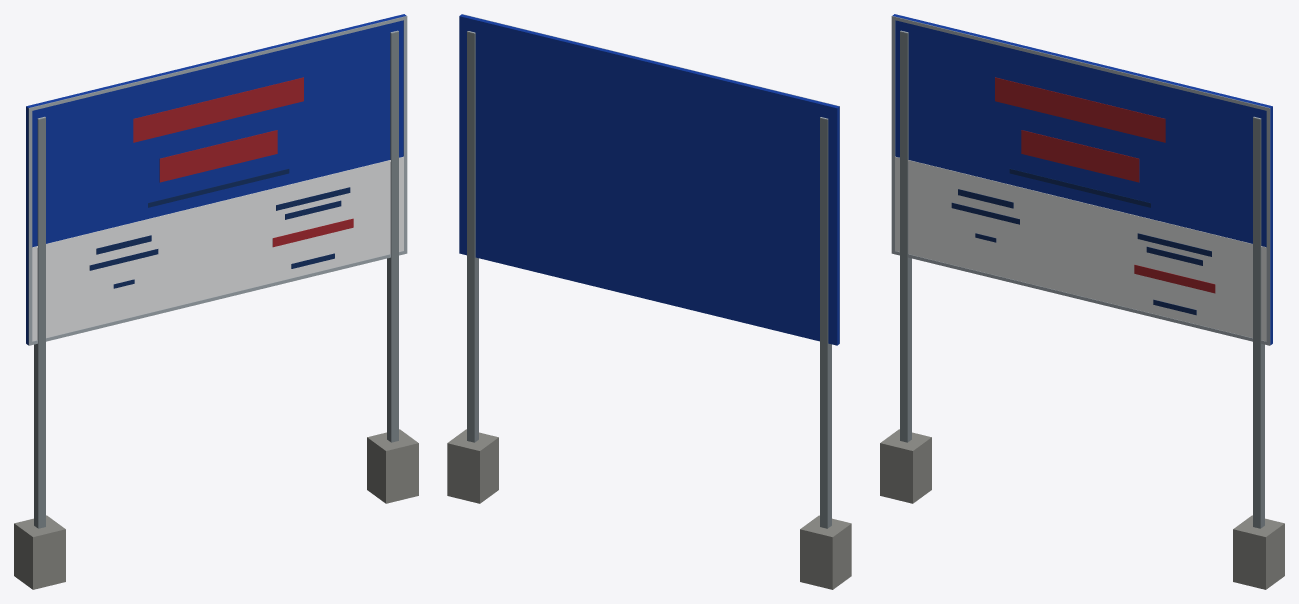
The model's file is Bảng hiệu bạt lót tôn 2 mặt có trụ 300 x 150.obj.
3 renders of one model, left to right at view 1: azimuth 30°, elevation 25°; view 2: azimuth 150°, elevation 25°; view 3: azimuth 330°, elevation 25°, orthographic.
Parts seen in each view (by area): view 1: Tam_bien_nen, Nen_thong_tin_trang, Tru_thep_1, Tru_thep_-1, Chu_ĐỘI_SẢN_XUẤT, Mong_tru_-1, Mong_tru_1, Chu_KÔ_SIÊR_II, Vien_tren, Vien_duoi, Vien_trai, Vien_phai (+3 smaller); view 2: Tam_bien_nen, Tru_thep_1, Tru_thep_-1, Mong_tru_-1, Mong_tru_1; view 3: Tam_bien_nen, Nen_thong_tin_trang, Tru_thep_-1, Tru_thep_1, Chu_ĐỘI_SẢN_XUẤT, Mong_tru_1, Mong_tru_-1, Chu_KÔ_SIÊR_II, Vien_tren, Vien_duoi, Vien_phai, Vien_trai (+3 smaller).
Boxes of the visible parts, box(x1,y1,x2,y2) form: Tam_bien_nen: box(26, 14, 406, 345); Nen_thong_tin_trang: box(32, 159, 403, 341); Tru_thep_1: box(387, 32, 398, 442); Tru_thep_-1: box(34, 118, 45, 528); Chu_ĐỘI_SẢN_XUẤT: box(133, 77, 303, 142); Mong_tru_-1: box(14, 515, 65, 589); Mong_tru_1: box(367, 429, 418, 503); Chu_KÔ_SIÊR_II: box(159, 130, 277, 182); Vien_tren: box(28, 16, 407, 111); Vien_duoi: box(28, 250, 407, 345); Vien_trai: box(28, 107, 32, 344); Vien_phai: box(403, 16, 407, 253); Tam_bien_nen: box(459, 14, 839, 345); Tru_thep_1: box(467, 32, 478, 442); Tru_thep_-1: box(820, 118, 831, 528); Mong_tru_-1: box(800, 515, 851, 589); Mong_tru_1: box(447, 429, 498, 503); Tam_bien_nen: box(892, 14, 1272, 345); Nen_thong_tin_trang: box(895, 159, 1266, 341); Tru_thep_-1: box(900, 32, 911, 442); Tru_thep_1: box(1253, 118, 1264, 528); Chu_ĐỘI_SẢN_XUẤT: box(995, 77, 1165, 142); Mong_tru_1: box(1233, 515, 1284, 589); Mong_tru_-1: box(880, 429, 931, 503); Chu_KÔ_SIÊR_II: box(1021, 130, 1139, 182); Vien_tren: box(891, 16, 1270, 111); Vien_duoi: box(891, 250, 1270, 345); Vien_phai: box(1266, 107, 1270, 345); Vien_trai: box(891, 16, 895, 254).
Size of the model in its own units: 3.06 by 3.6 by 0.26.
